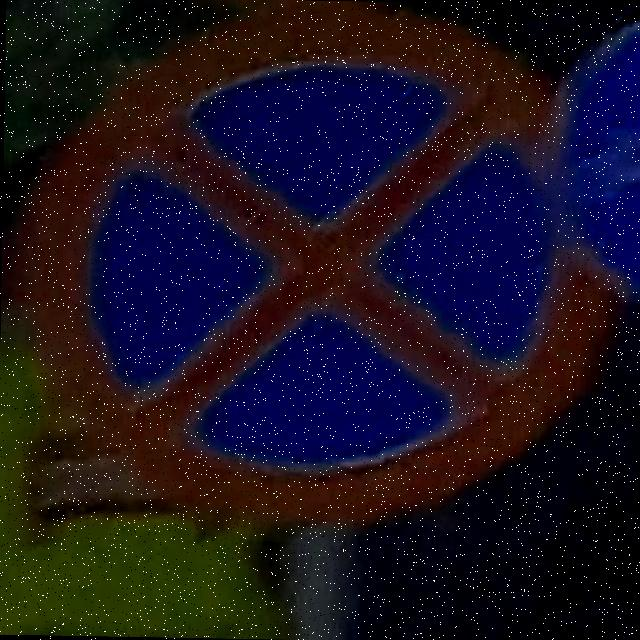Zakaz zatrzymywania sie: (14, 0, 619, 528)
